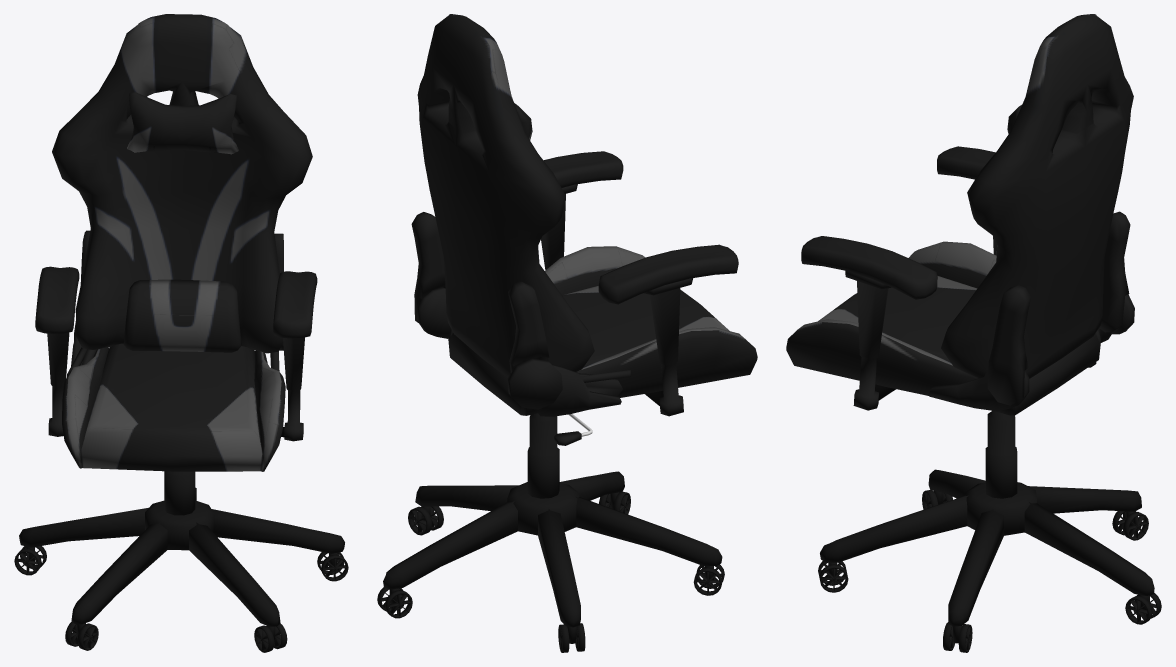
The model's file is Silla gaming.glb.
The picture shows the model from 3 angles, left to right: view 1: azimuth 30°, elevation 25°; view 2: azimuth 150°, elevation 25°; view 3: azimuth 270°, elevation 25°; orthographic projection. The views are drawn at different scales.
Visible parts, largest first — view 1: Habitacion_Silla gaming; view 2: Habitacion_Silla gaming; view 3: Habitacion_Silla gaming.
Boxes of the visible parts, x1=… form: Habitacion_Silla gaming: x1=14, y1=14, x2=348, y2=652; Habitacion_Silla gaming: x1=377, y1=14, x2=757, y2=652; Habitacion_Silla gaming: x1=786, y1=14, x2=1161, y2=652.
Size of the model in its own units: 1.1 by 1.84 by 1.08.
4 materials, 2 textured.
